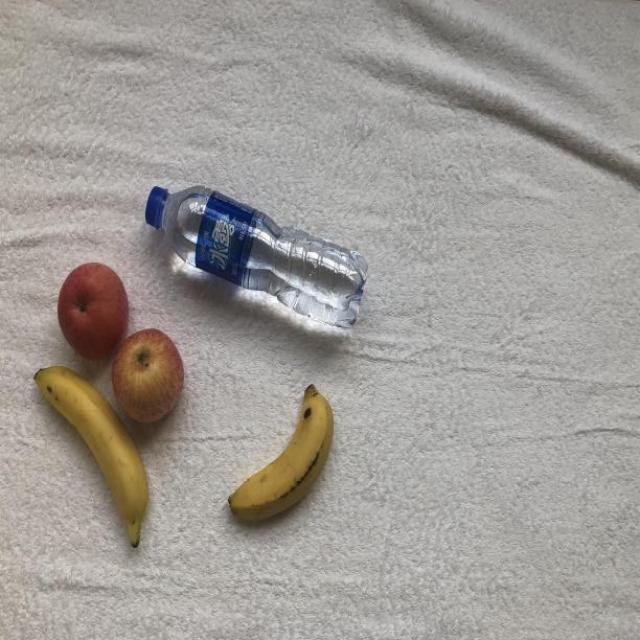Apple: (54, 255, 133, 365), (109, 317, 184, 431)
Banana: (25, 357, 153, 557), (227, 365, 337, 540)
